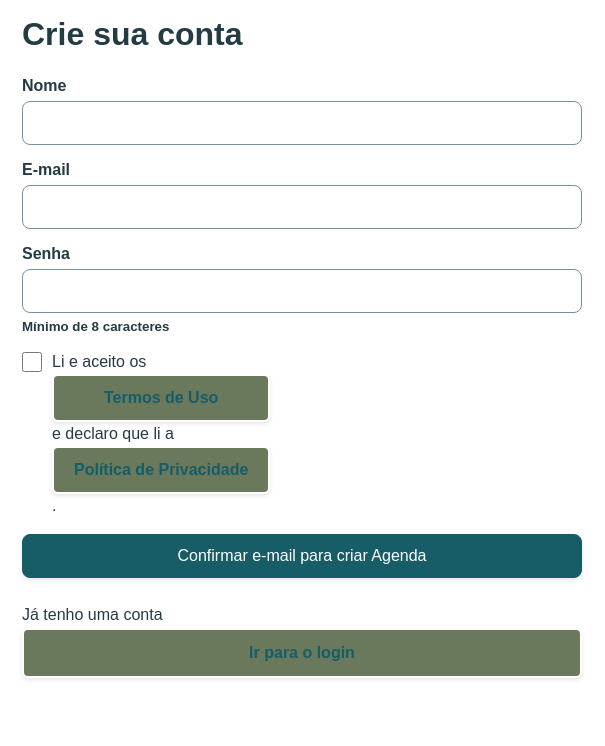
Test: cadastro começa sem aceite e contém somente nome, e-mail e senha, com links legais
Expected: the button "Confirmar e-mail para criar Agenda" is enabled, [22,534,582,578]
Type "Pessoa de Teste" into the field labelled "Nome".
click(302, 123); type("Pessoa de Teste")  # box [22,101,582,145]
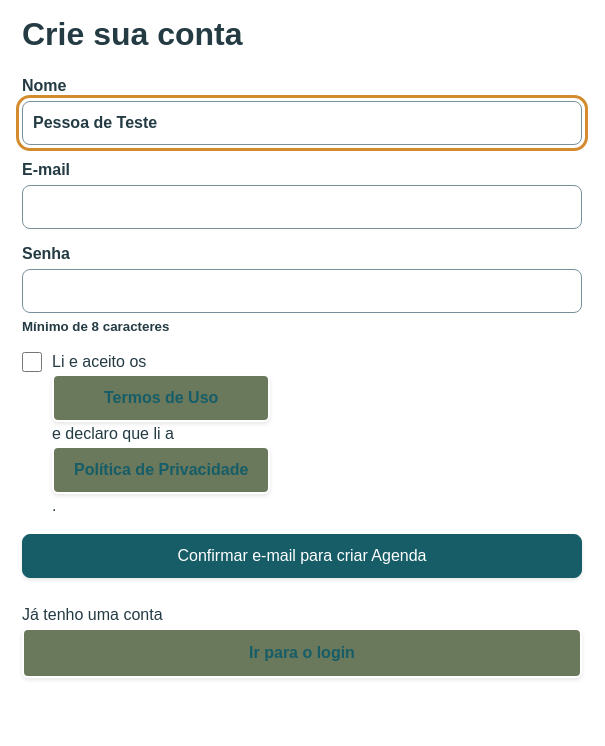
Type "pessoa@example.test" into the field labelled "E-mail".
click(302, 207); type("pessoa@example.test")  # box [22,185,582,229]
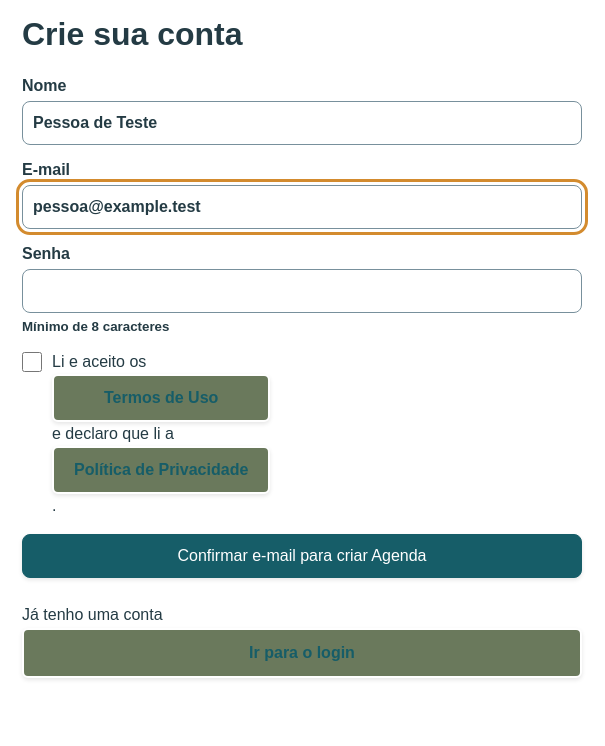
Type "SenhaForteTeste!28" into the password field labelled "Senha Mínimo de 8 caracteres".
click(302, 291); type("SenhaForteTeste!28")  # box [22,269,582,313]
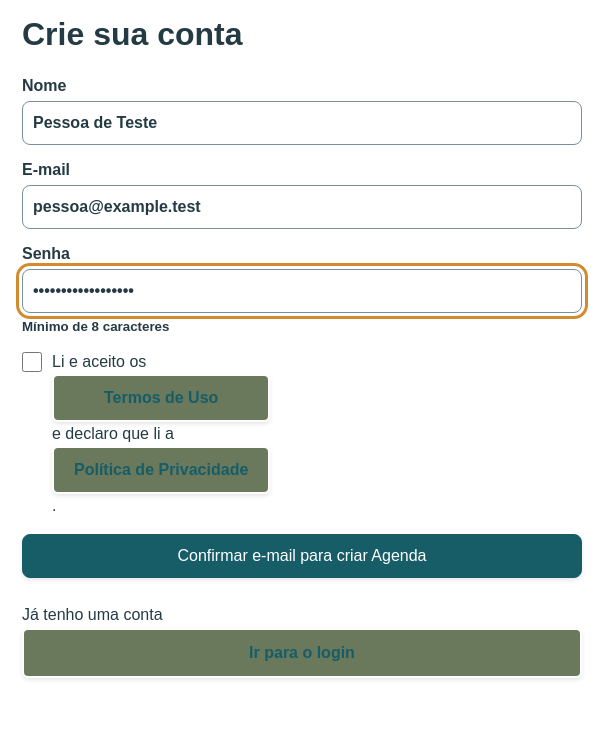
Expected: the heading "Crie sua conta" is shown, [22,16,242,52]
Expected: the text "Mínimo de 8 caracteres" is shown, [22,319,169,334]
Click the button "Confirmar e-mail para criar Agenda".
click(302, 556)  # box [22,534,582,578]
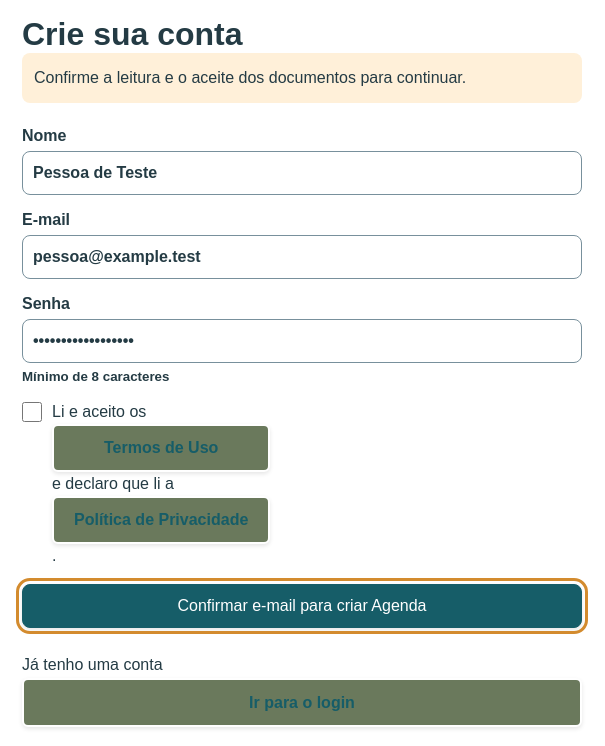
Now the message shows "aceite", box [34,69,466,86]
